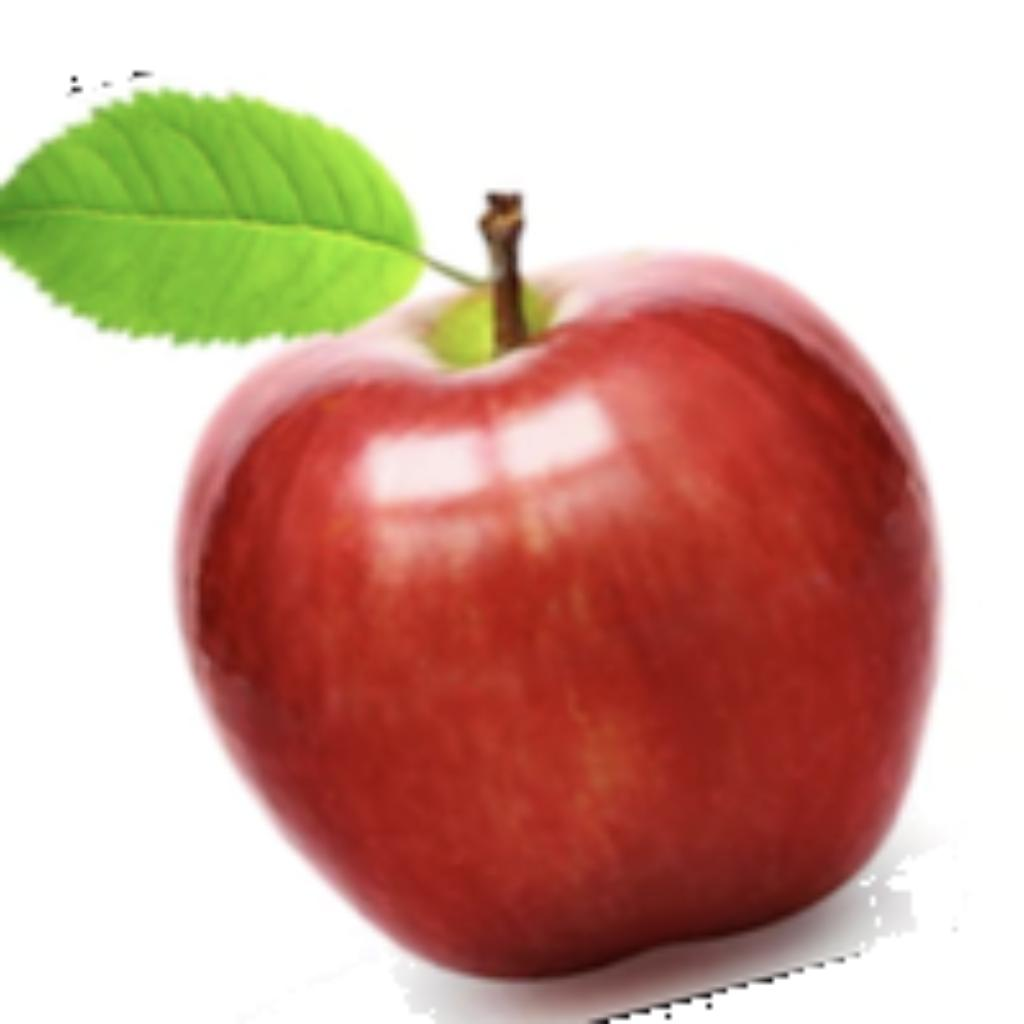apple: (0, 67, 947, 1019)
